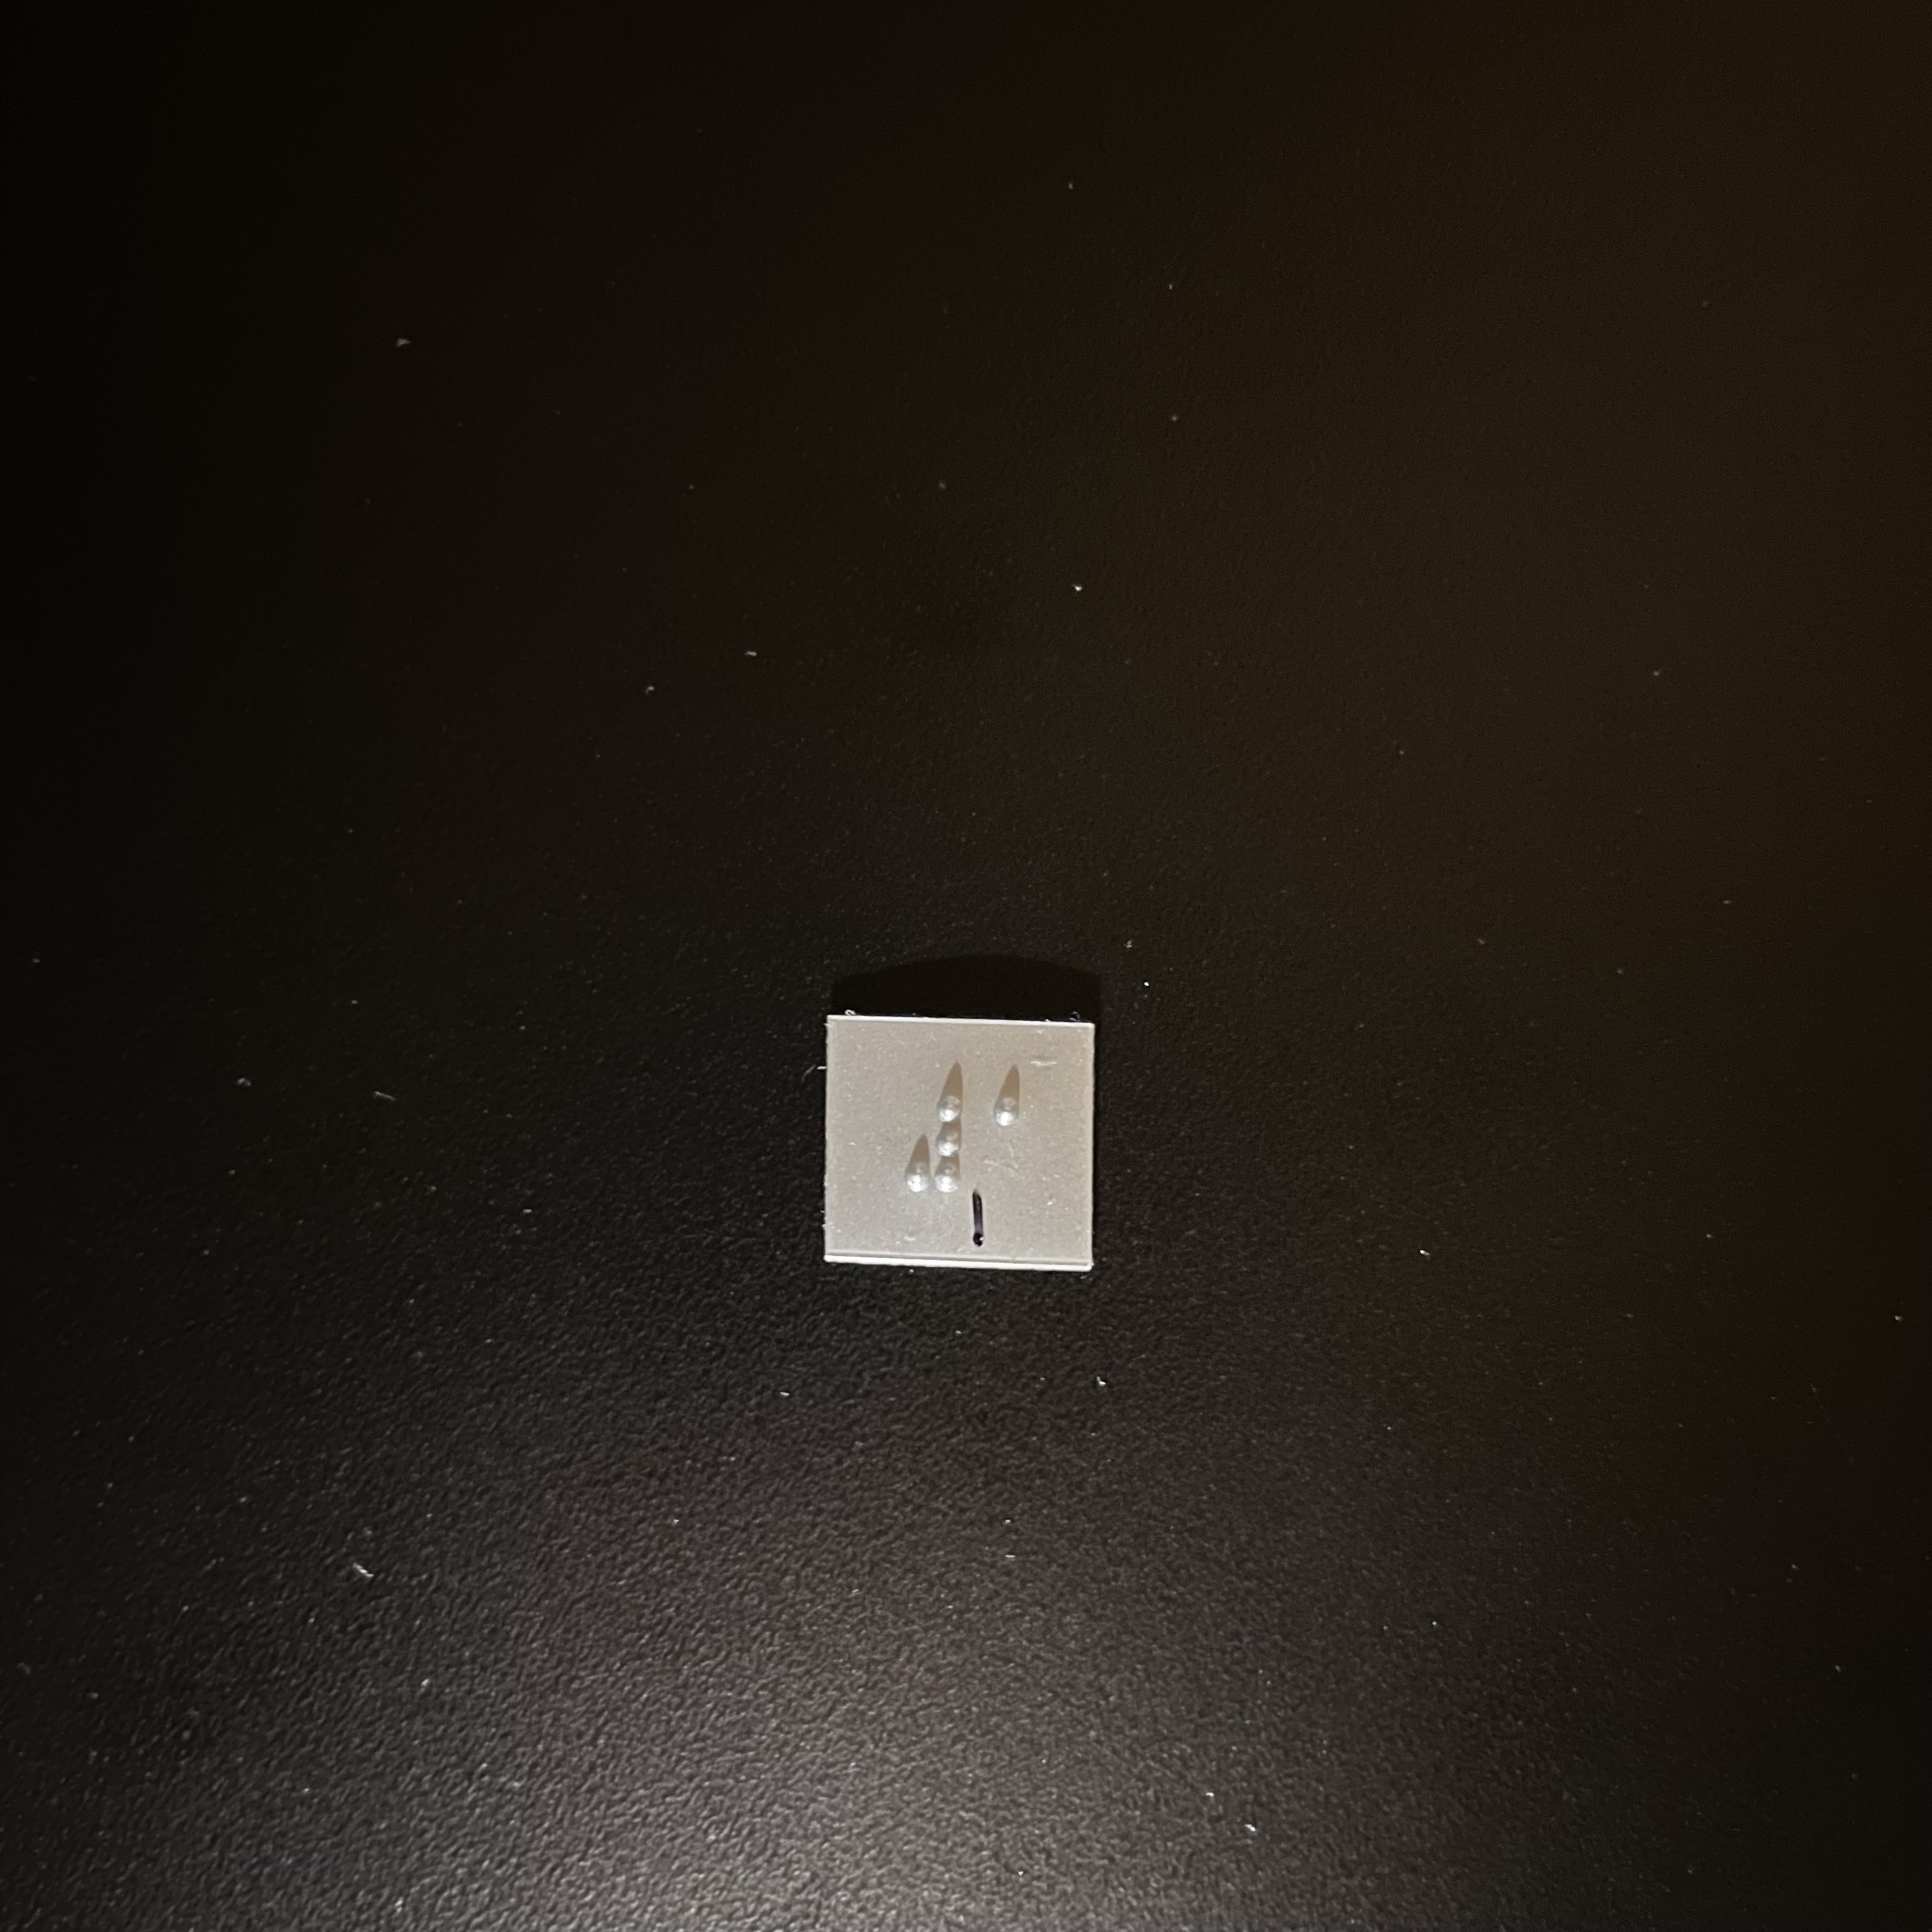#: (903, 1094, 970, 1199)
a: (985, 1094, 1054, 1199)
